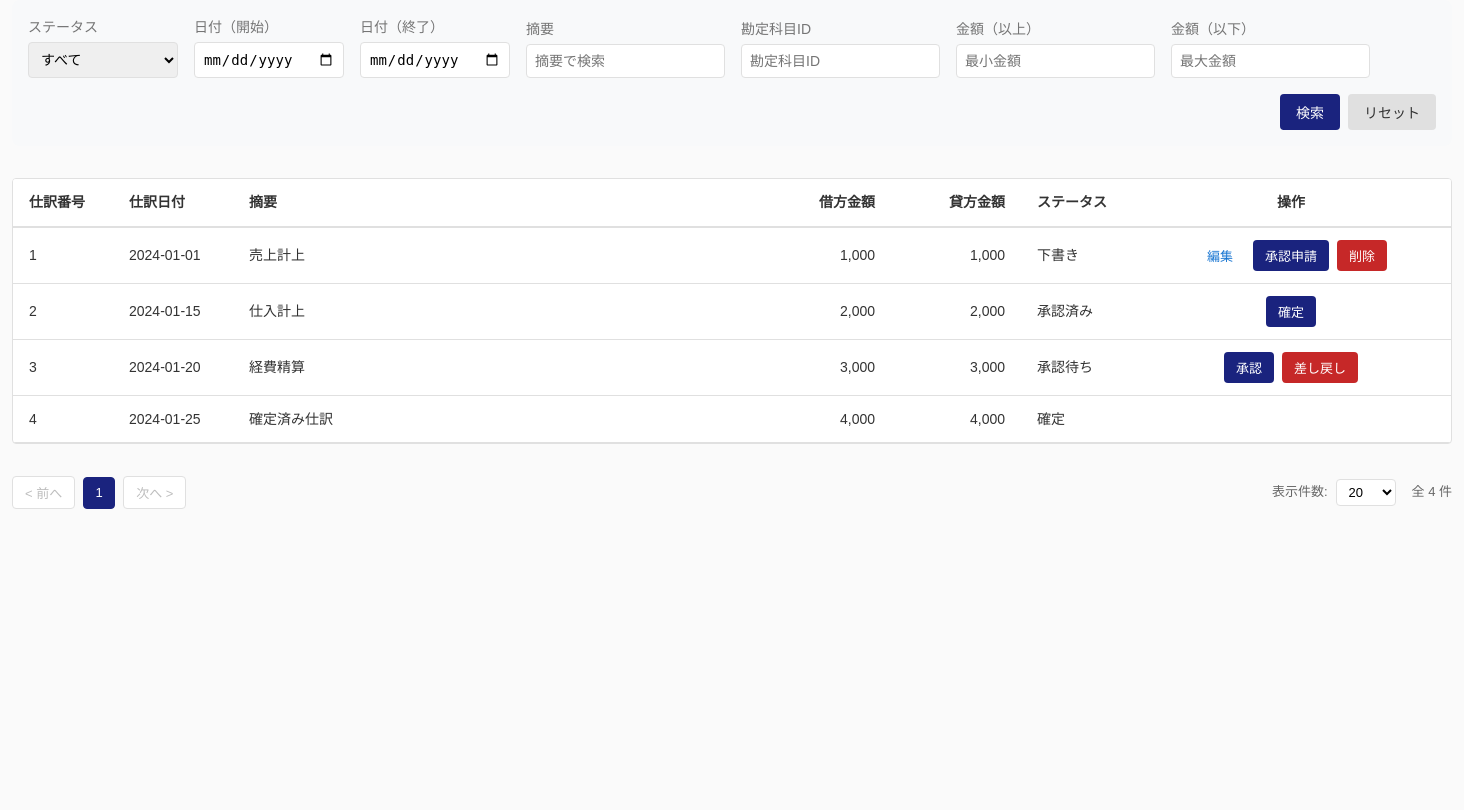
Test: JournalEntryList › 差し戻し成功時に成功メッセージを表示する
Click the button "差し戻し": point(1320, 367) 1282,352 -> 1358,383
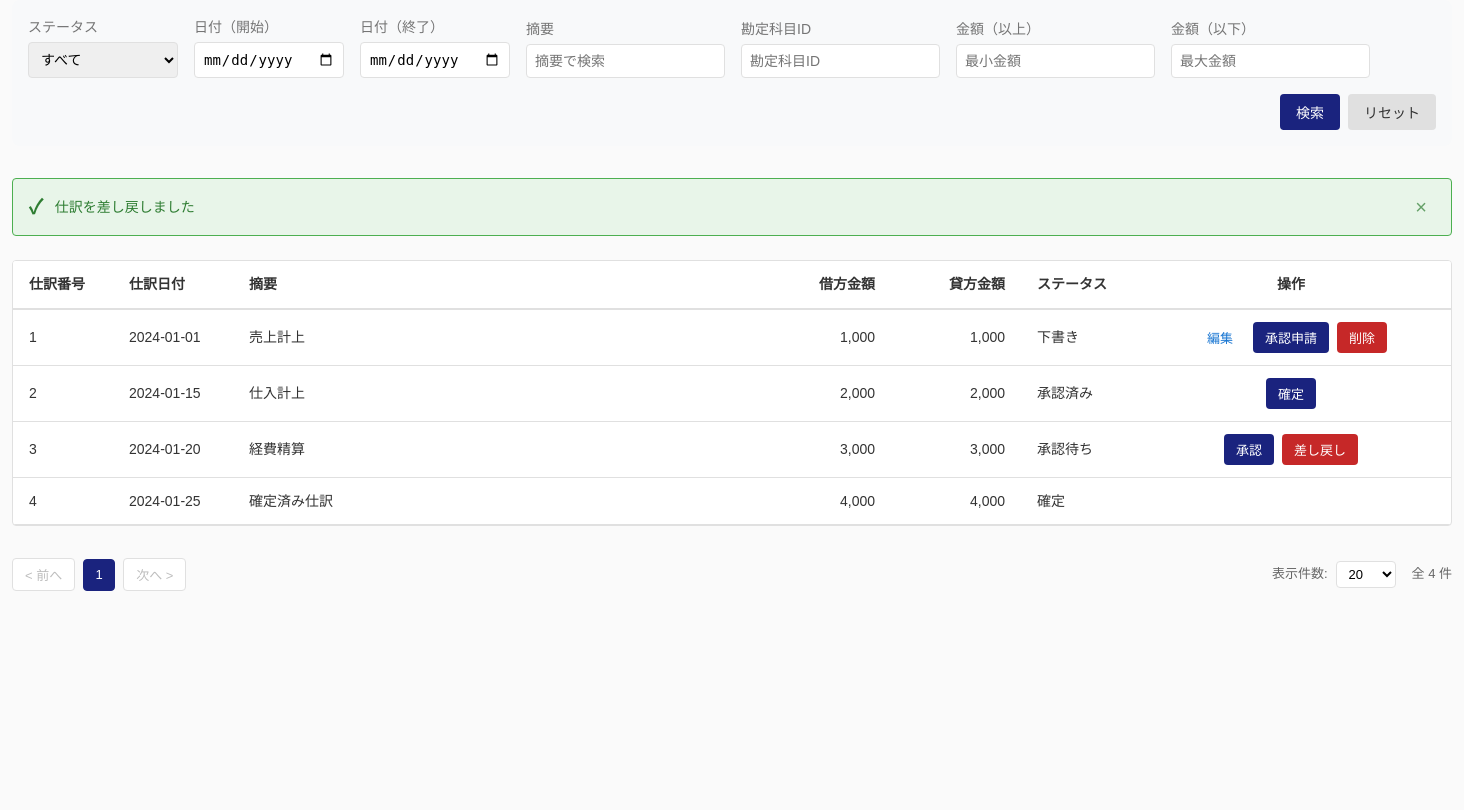
Now the element with test id "success-notification" shows "仕訳を差し戻しました", box 55,199 -> 195,215
